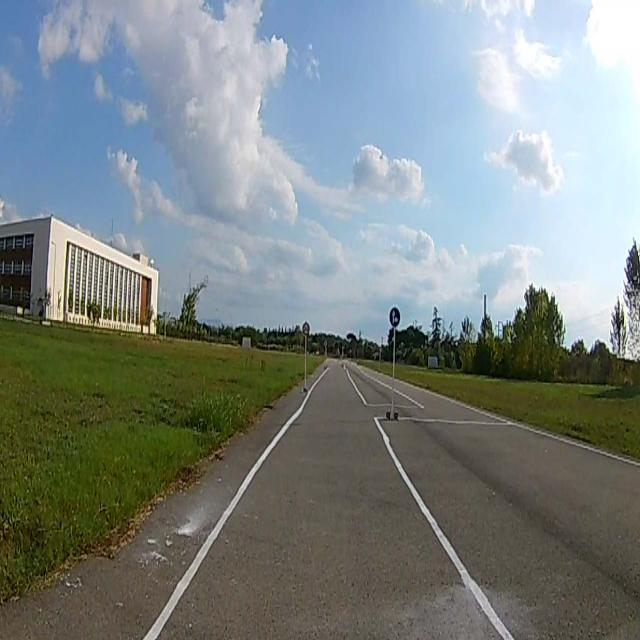ilerisag: (388, 307, 400, 327)
